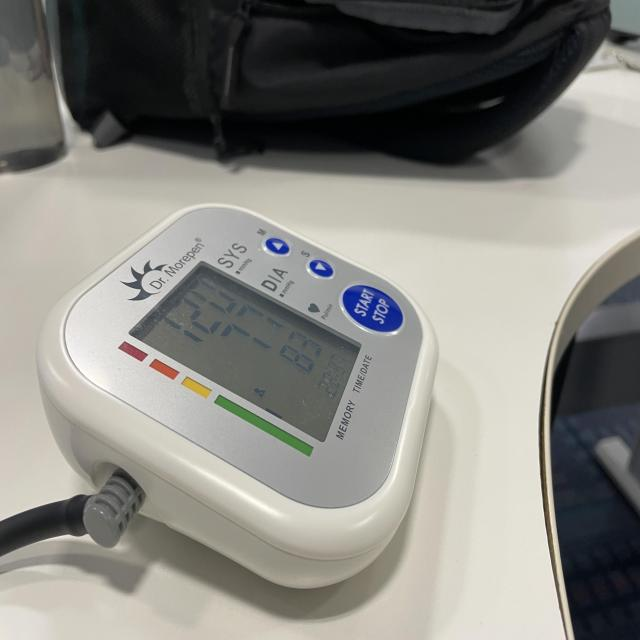bp: (36, 204, 439, 593)
